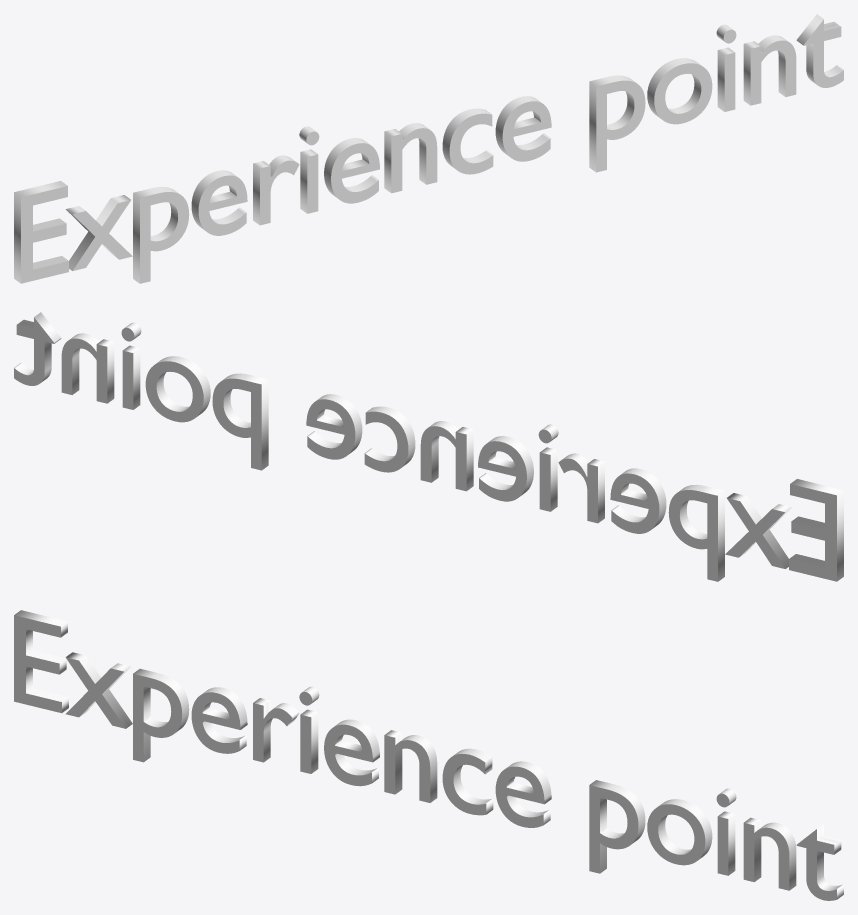
Rendered from ExperienceText.obj.
3 renders of one model, top to bottom at view 1: azimuth 30°, elevation 25°; view 2: azimuth 150°, elevation 25°; view 3: azimuth 330°, elevation 25°, orthographic.
Visible parts, largest first — view 1: テキスト; view 2: テキスト; view 3: テキスト.
Part boxes in pixels (x1,y1,x2,y2): テキスト: (14, 14, 843, 283); テキスト: (14, 312, 843, 581); テキスト: (14, 610, 843, 900).
Bounding box in the file's own units: 6.8 × 0.912 × 0.1.
1 material, 1 textured.
